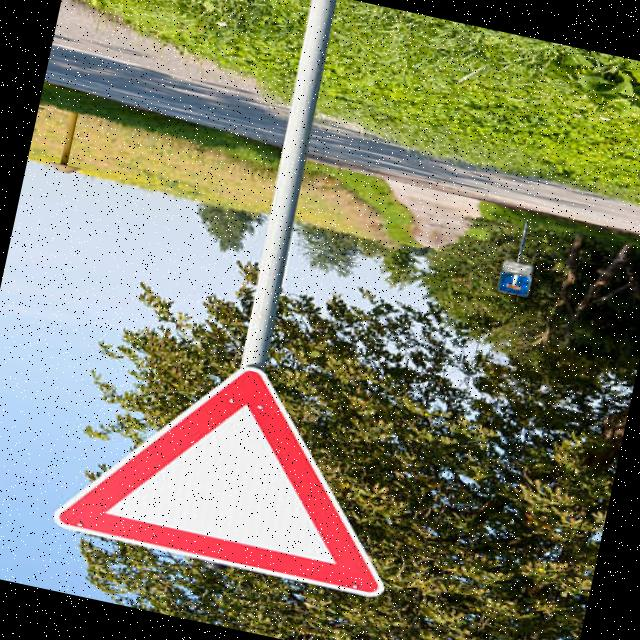give_way: (42, 324, 448, 613)
